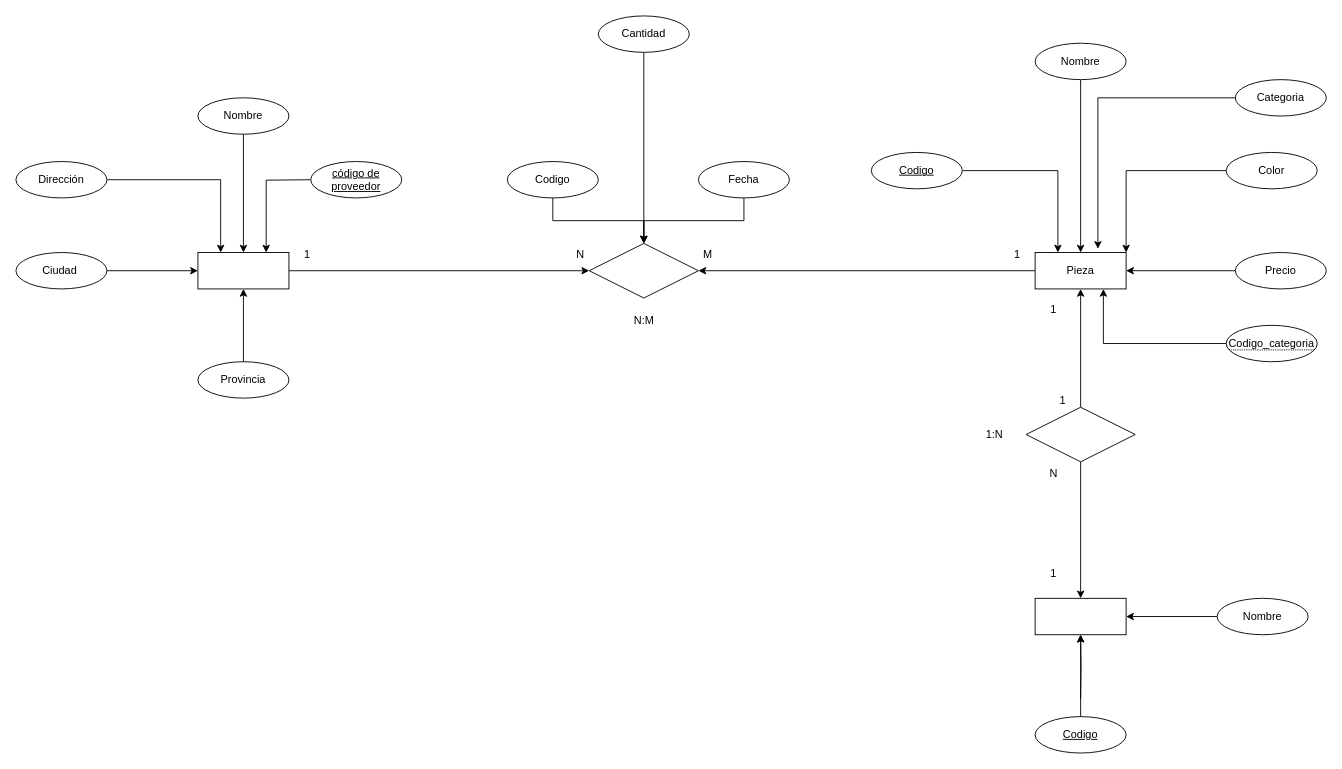
Some shapes in this 1342 by 769 pixel diagram are drawn without their labels. Each missing label, with the centre of its shape:
Entity: the point at 1080,616
Proveedor: the point at 243,270
Suministra: the point at 643,270
Tiene: the point at 1080,434
